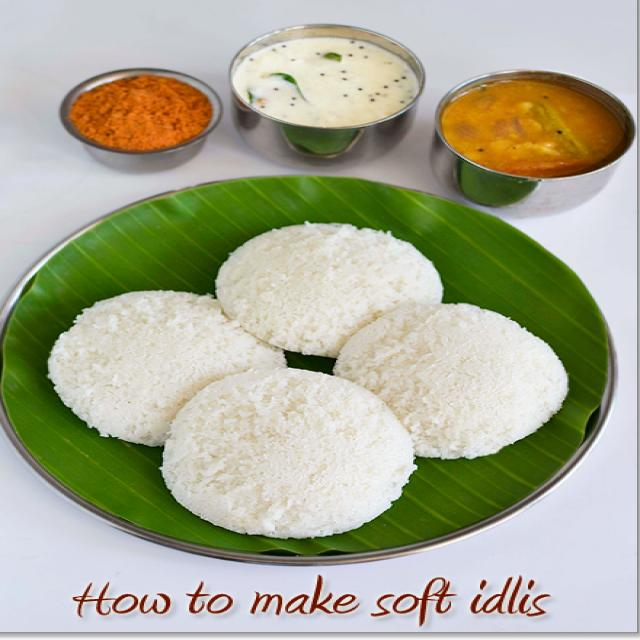chutney: (234, 32, 420, 142), (70, 69, 222, 158)
idli: (100, 226, 538, 508)
sambhar: (442, 72, 640, 192)
